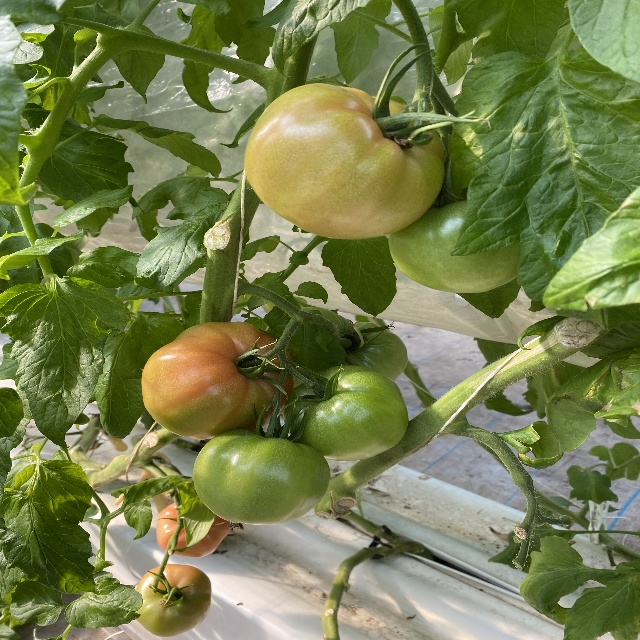b_green: (193, 428, 332, 525), (284, 365, 410, 462), (389, 202, 519, 293), (301, 306, 408, 380)
b_half_ripened: (244, 83, 447, 240), (141, 322, 293, 439), (131, 564, 213, 637), (156, 497, 231, 557)
